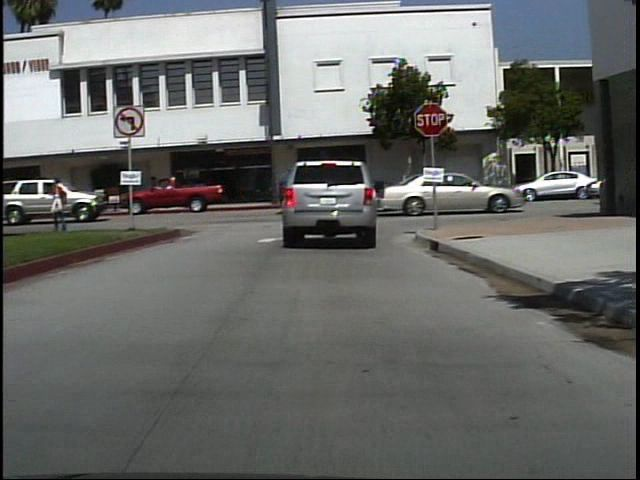person: (44, 172, 81, 235), (281, 161, 310, 236), (146, 172, 170, 211), (166, 173, 185, 209)
